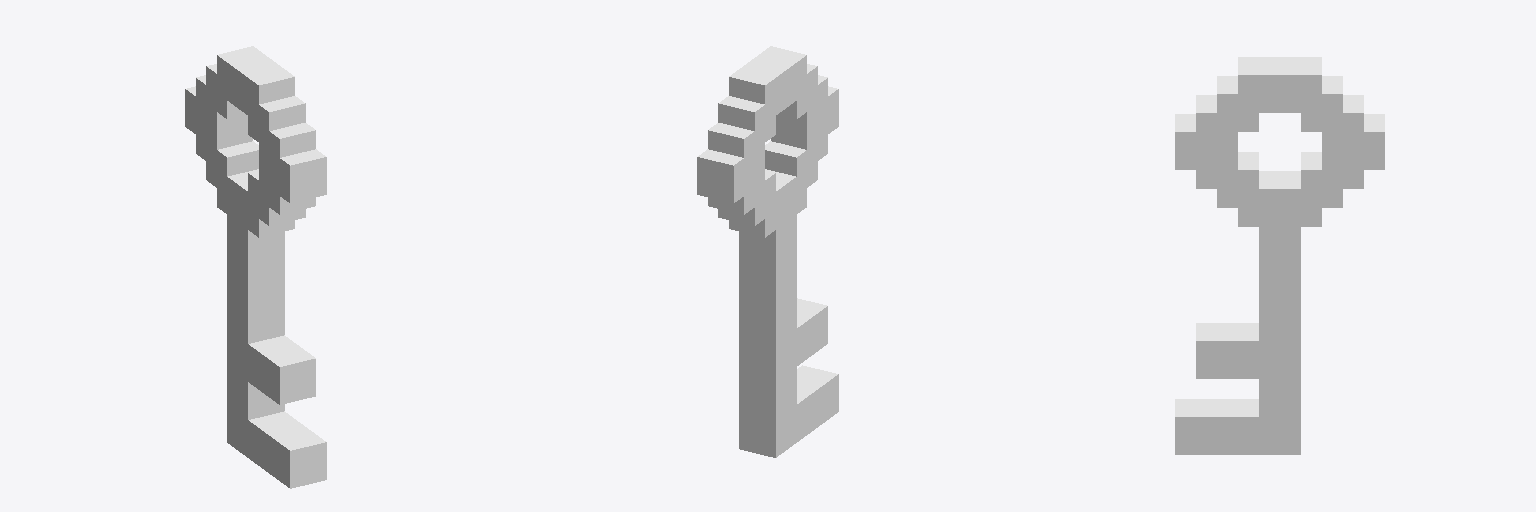
Rendered from MebiKey.obj.
3 renders of one model, left to right at view 1: azimuth 30°, elevation 25°; view 2: azimuth 150°, elevation 25°; view 3: azimuth 270°, elevation 25°, orthographic.
Visible parts, largest first — view 1: object 1; view 2: object 1; view 3: object 1.
Boxes of the visible parts, x1,y1,x2,y2 form: object 1: [185, 46, 326, 488]; object 1: [697, 46, 838, 457]; object 1: [1175, 57, 1384, 454].
Size of the model in its own units: 0.2 by 2 by 1.